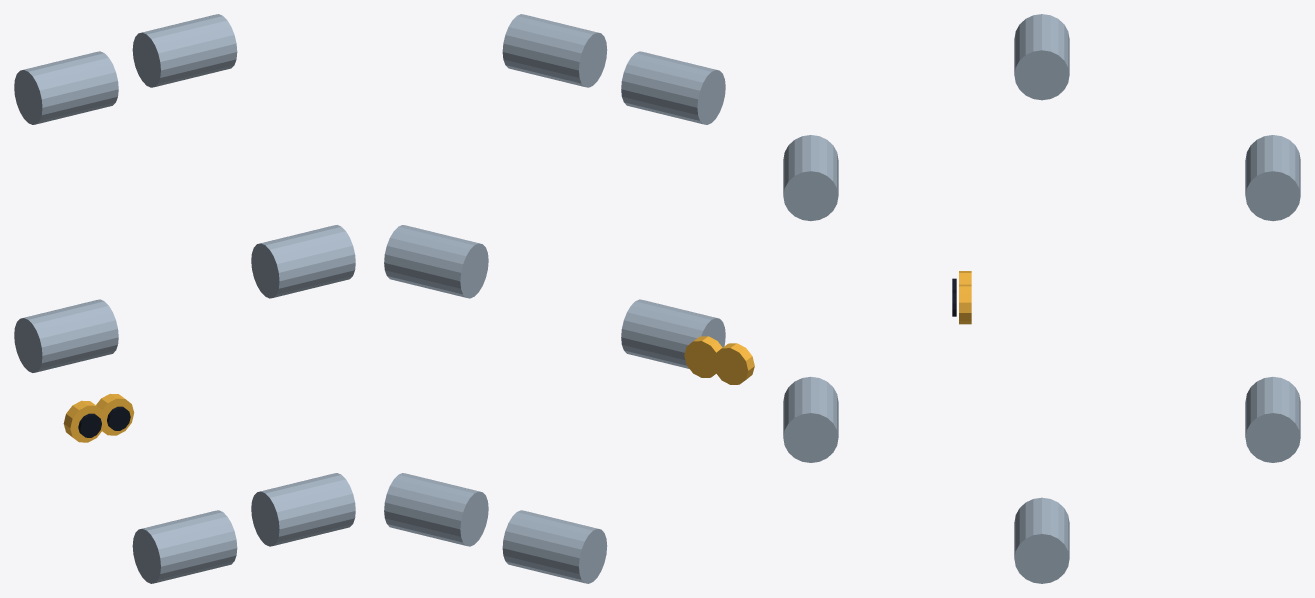
File: 58_L85_SixAxisContactForceSensor.fbx
3 renders of one model, left to right at view 1: azimuth 30°, elevation 25°; view 2: azimuth 150°, elevation 25°; view 3: azimuth 270°, elevation 25°, orthographic. The views are drawn at different scales.
Visible parts, largest first — view 1: L85_SixAxisContactForceSensor, L85_SixAxisContactForceSensor_Part_0001, L85_SixAxisContactForceSensor_Part_0003, L85_SixAxisContactForceSensor_Part_0002, L85_SixAxisContactForceSensor_Part_0004; view 2: L85_SixAxisContactForceSensor, L85_SixAxisContactForceSensor_Part_0001, L85_SixAxisContactForceSensor_Part_0003; view 3: L85_SixAxisContactForceSensor.
Part boxes in pixels (left/top/right/bottom): L85_SixAxisContactForceSensor: left=14, top=14, right=355, bottom=583; L85_SixAxisContactForceSensor_Part_0001: left=63, top=400, right=105, bottom=442; L85_SixAxisContactForceSensor_Part_0003: left=96, top=393, right=134, bottom=435; L85_SixAxisContactForceSensor_Part_0002: left=78, top=413, right=101, bottom=437; L85_SixAxisContactForceSensor_Part_0004: left=107, top=406, right=130, bottom=430; L85_SixAxisContactForceSensor: left=384, top=14, right=725, bottom=583; L85_SixAxisContactForceSensor_Part_0001: left=713, top=343, right=754, bottom=384; L85_SixAxisContactForceSensor_Part_0003: left=684, top=336, right=722, bottom=377; L85_SixAxisContactForceSensor: left=783, top=14, right=1300, bottom=583.
Bounding box in the file's own units: 71.75 × 192 × 169.
